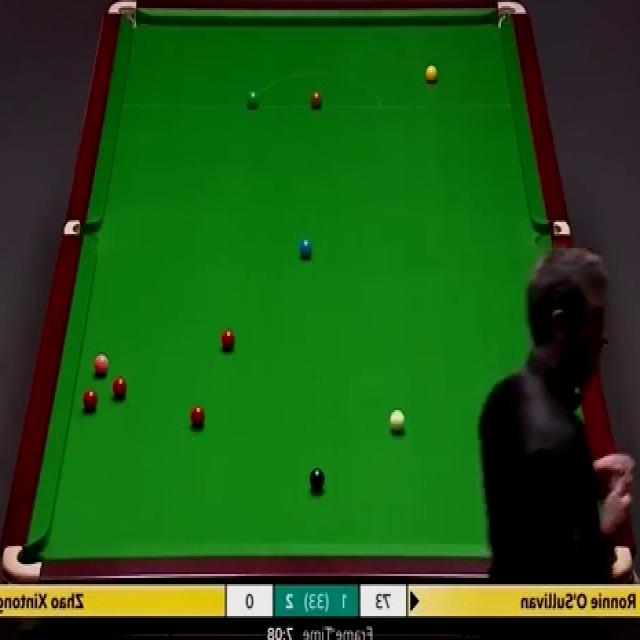black-ball: (309, 466, 325, 493)
blue-ball: (299, 239, 312, 261)
brown-ball: (310, 93, 322, 110)
green-ball: (247, 90, 258, 110)
pink-ball: (92, 353, 109, 378)
red-ball: (189, 405, 207, 430), (220, 327, 235, 352), (82, 391, 99, 411), (112, 378, 127, 399)
white-ball: (388, 408, 407, 435)
yellow-ball: (424, 66, 438, 86)
